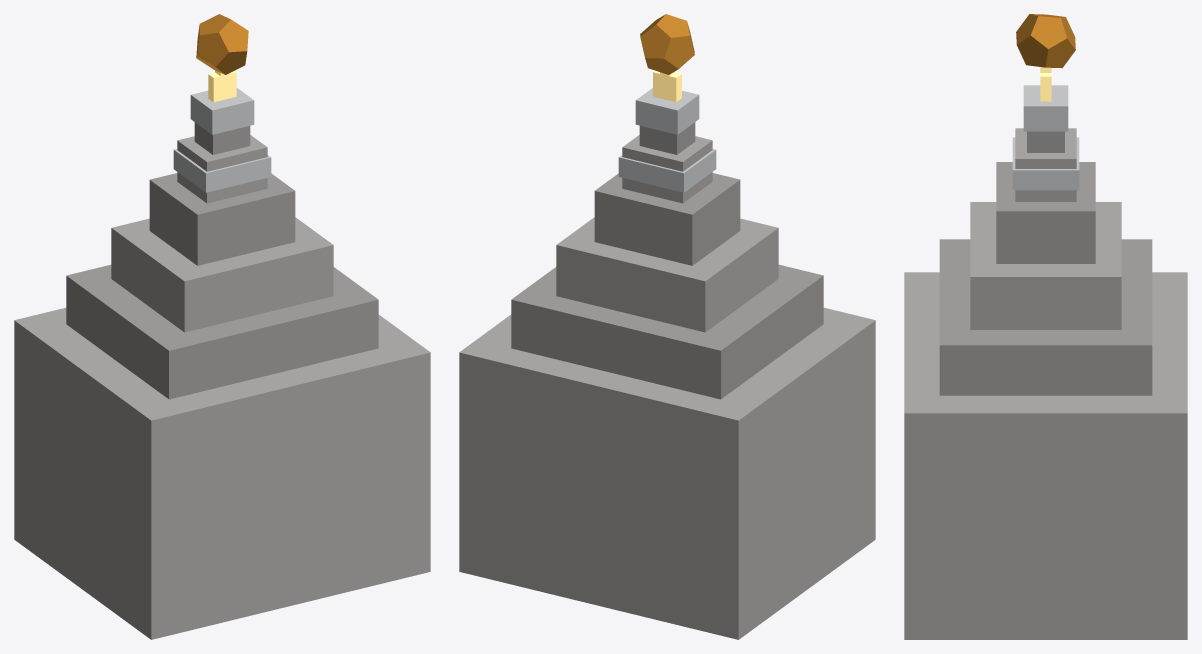
File: starheart-summit-skyline.glb
3 renders of one model, left to right at view 1: azimuth 30°, elevation 25°; view 2: azimuth 150°, elevation 25°; view 3: azimuth 270°, elevation 25°, orthographic. The views are drawn at different scales.
Visible parts, largest first — view 1: starheart-summit-skyline_body, starheart-summit-skyline_glow; view 2: starheart-summit-skyline_body, starheart-summit-skyline_glow; view 3: starheart-summit-skyline_body, starheart-summit-skyline_glow.
Part boxes in pixels (x1,y1,x2,y2): starheart-summit-skyline_body: [14, 14, 430, 639]; starheart-summit-skyline_glow: [208, 70, 236, 102]; starheart-summit-skyline_body: [459, 14, 875, 639]; starheart-summit-skyline_glow: [653, 70, 681, 102]; starheart-summit-skyline_body: [904, 14, 1187, 639]; starheart-summit-skyline_glow: [1040, 67, 1051, 101].
Size of the model in its own units: 27.46 by 50.5 by 23.34.
